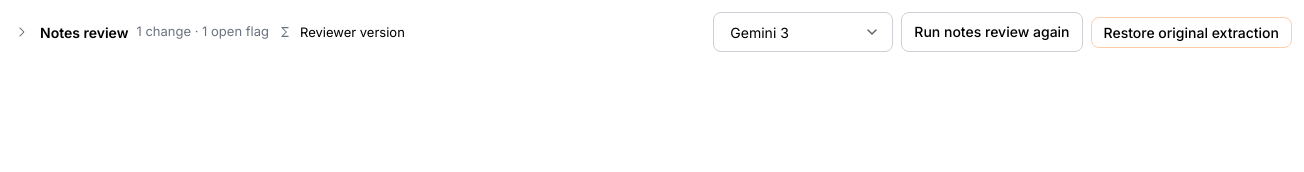
NotesReviewerPanel › Re-review posts the selected model to /notes-review/re-review
This screenshot has width=1304, height=172.
Expected: the element with test id "notes-reviewer-panel" is shown, 12,12 -> 1292,52
Expected: the dropdown named "Notes reviewer model" shows "Gemini 3", 713,12 -> 893,52
Click the button "Run notes review again" at (992, 32), box 901,12 -> 1082,52
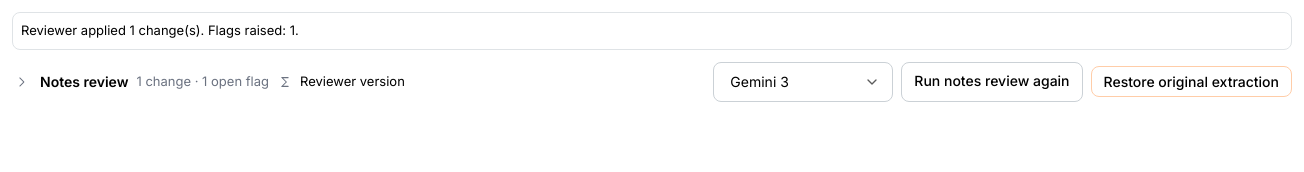
Result: the message "Reviewer applied 1 change(s). Flags raised: 1." is shown at 12,12 -> 1292,50
